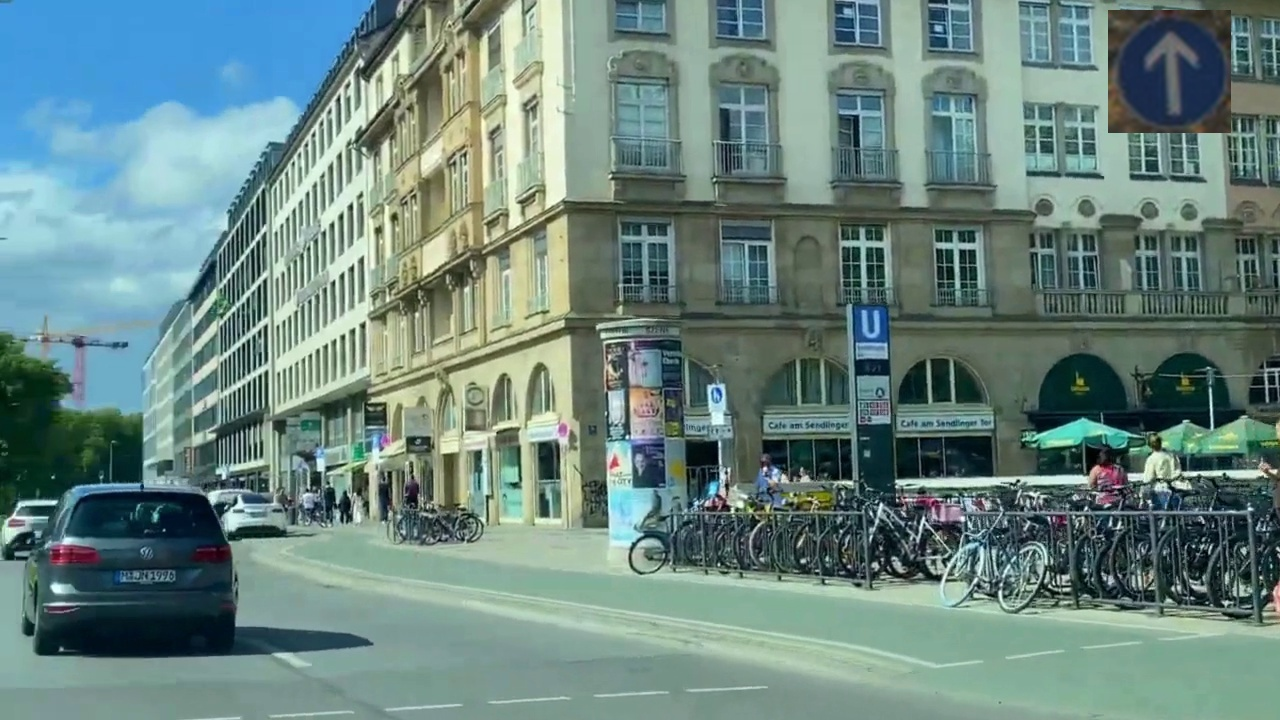Ahead only: (1108, 10, 1231, 133)
